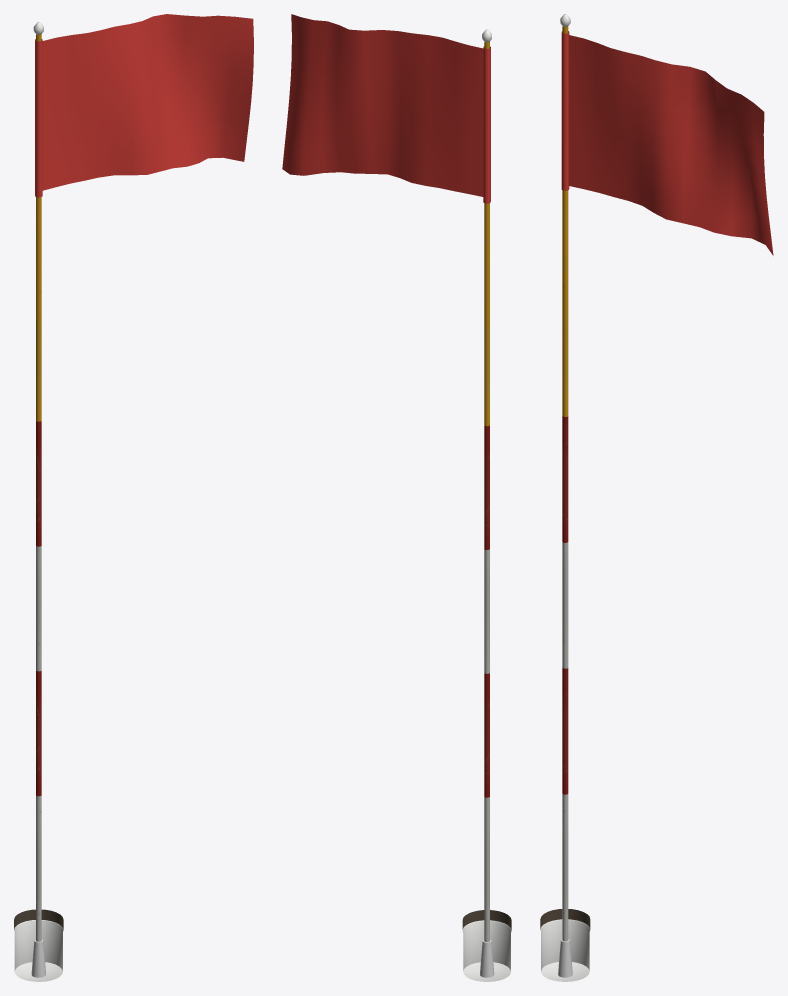
The model's file is flagstick.glb.
3 views of the same model, side by side, from view 1: azimuth 30°, elevation 25°; view 2: azimuth 150°, elevation 25°; view 3: azimuth 330°, elevation 25° (orthographic).
Parts seen in each view (by area): view 1: X_flagstick_Flag, X_flagstick; view 2: X_flagstick_Flag, X_flagstick; view 3: X_flagstick_Flag, X_flagstick.
Part boxes in pixels (<box>): X_flagstick_Flag: <box>35,14,253,197</box>; X_flagstick: <box>14,22,63,981</box>; X_flagstick_Flag: <box>282,14,490,203</box>; X_flagstick: <box>462,29,511,981</box>; X_flagstick_Flag: <box>561,31,773,255</box>; X_flagstick: <box>540,14,590,981</box>.
Size of the model in its own units: 0.572 by 2.29 by 0.108.
7 materials, 3 textured.
